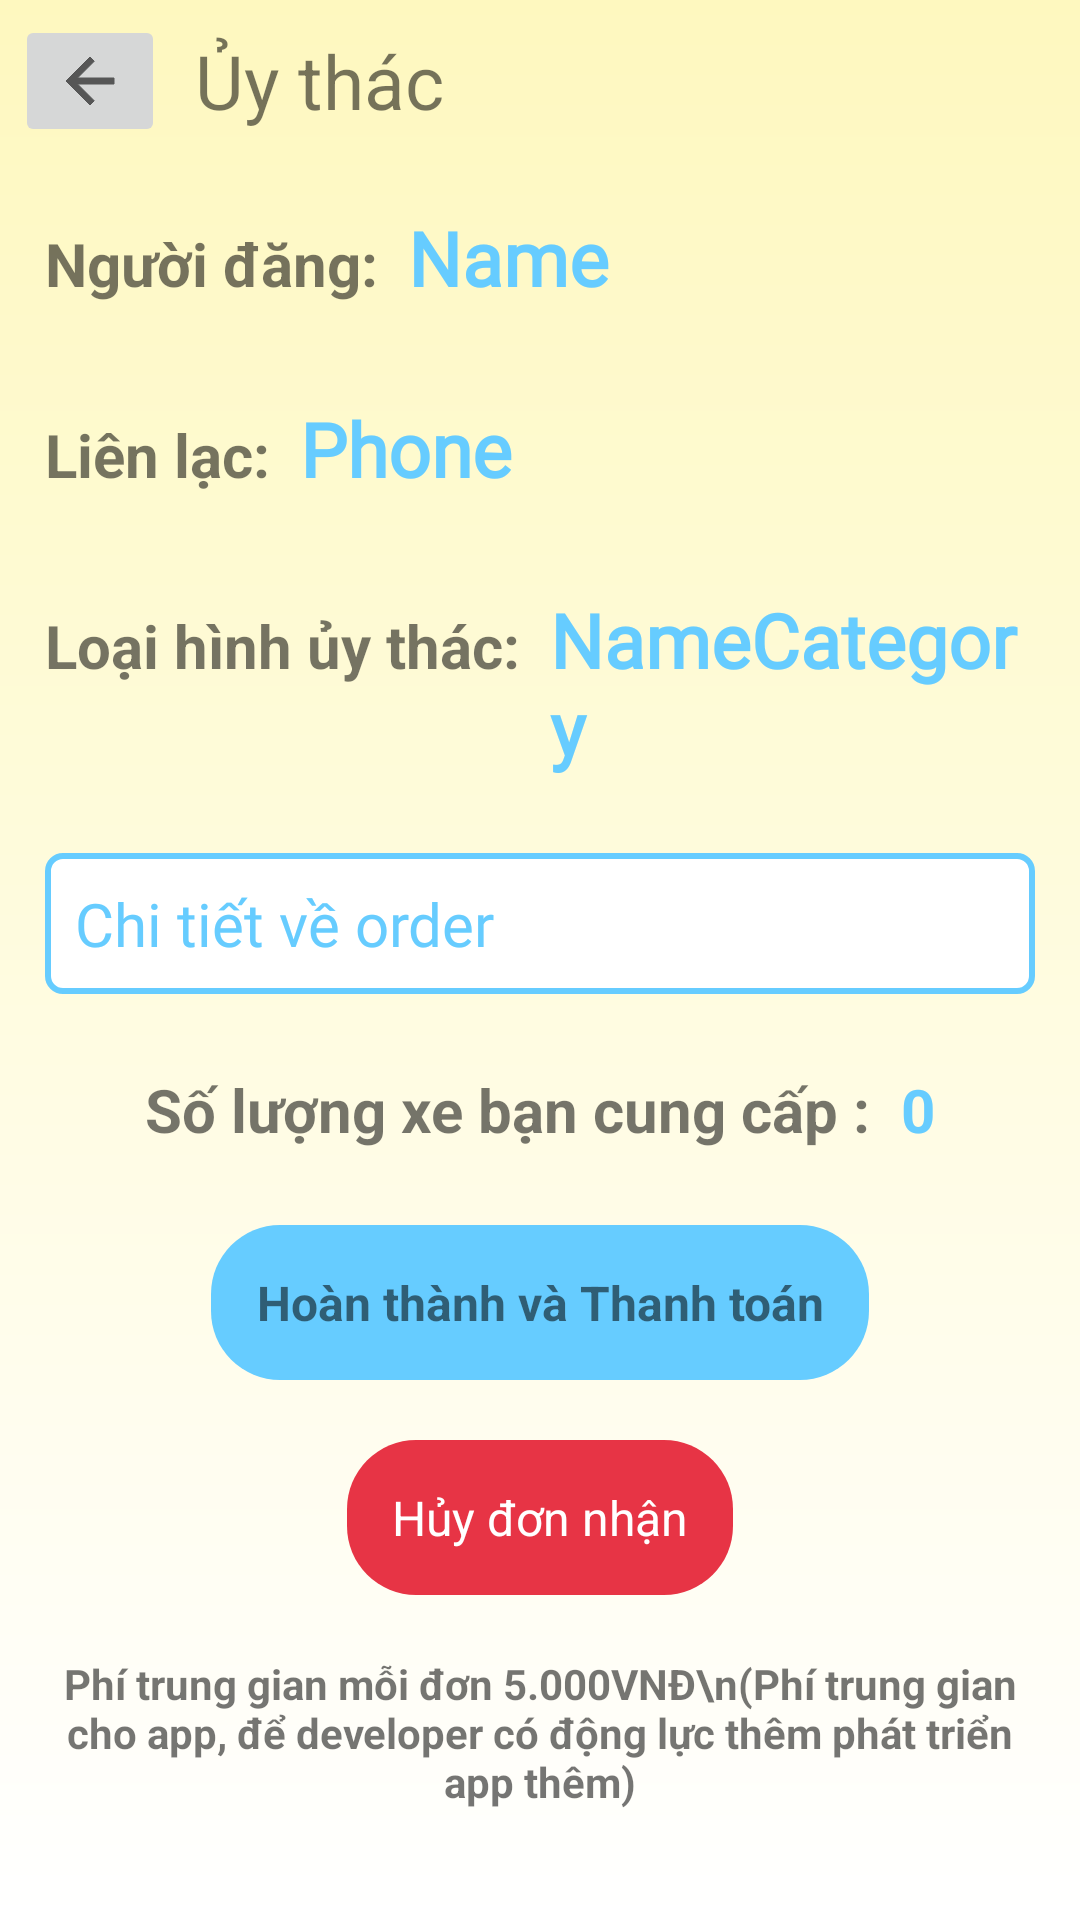

Point at icon controls on the screen. Image size 1080x1920, points as (x=x, y=y).
arrow back: (x=90, y=81)
